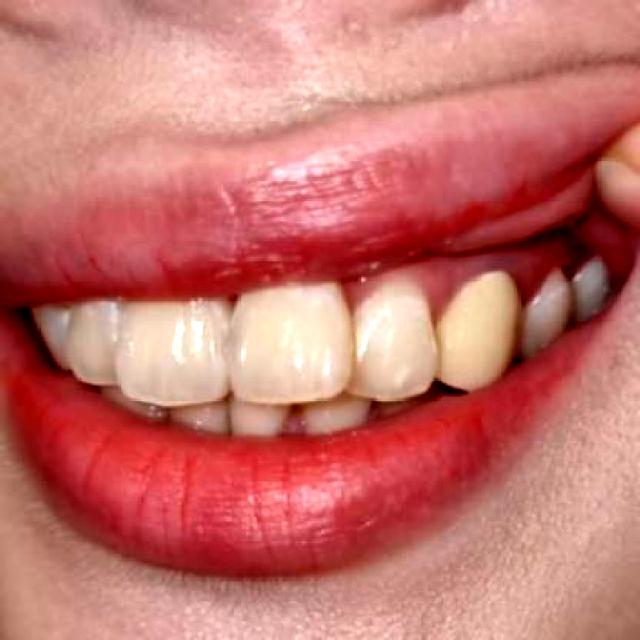Plaque: (500, 242, 584, 319)
